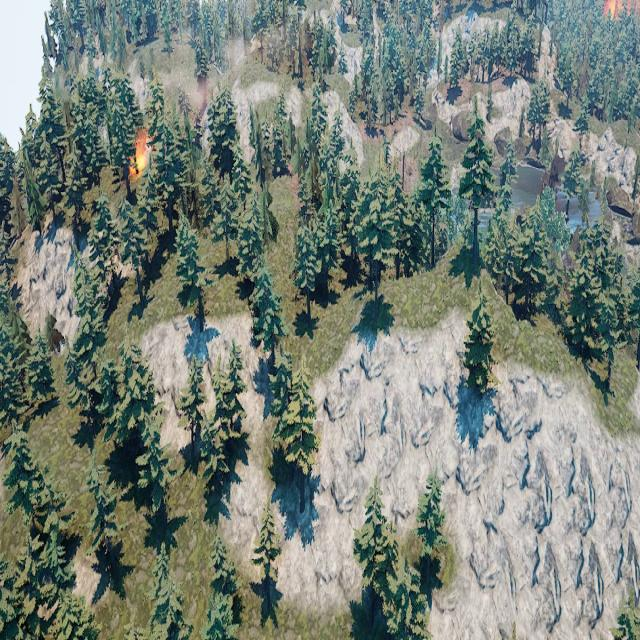fire: (130, 134, 150, 180)
smoke: (174, 40, 252, 136), (606, 0, 640, 21)
